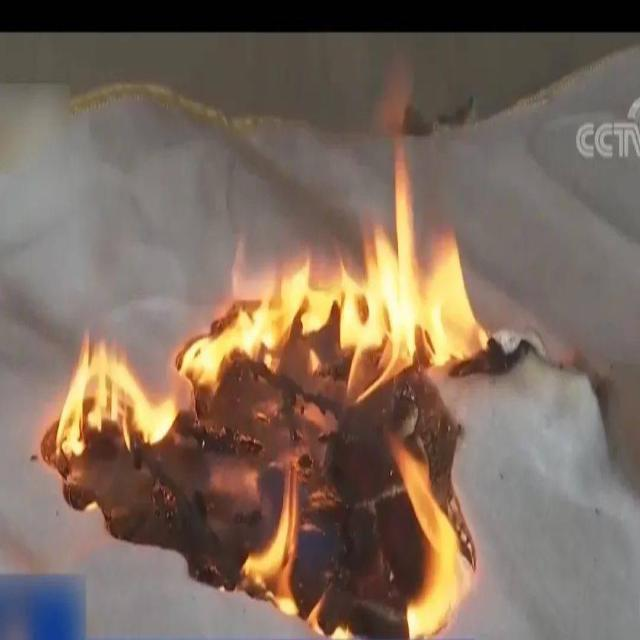Fire: (184, 165, 491, 381), (392, 434, 471, 640), (56, 337, 175, 453), (245, 466, 298, 618)
